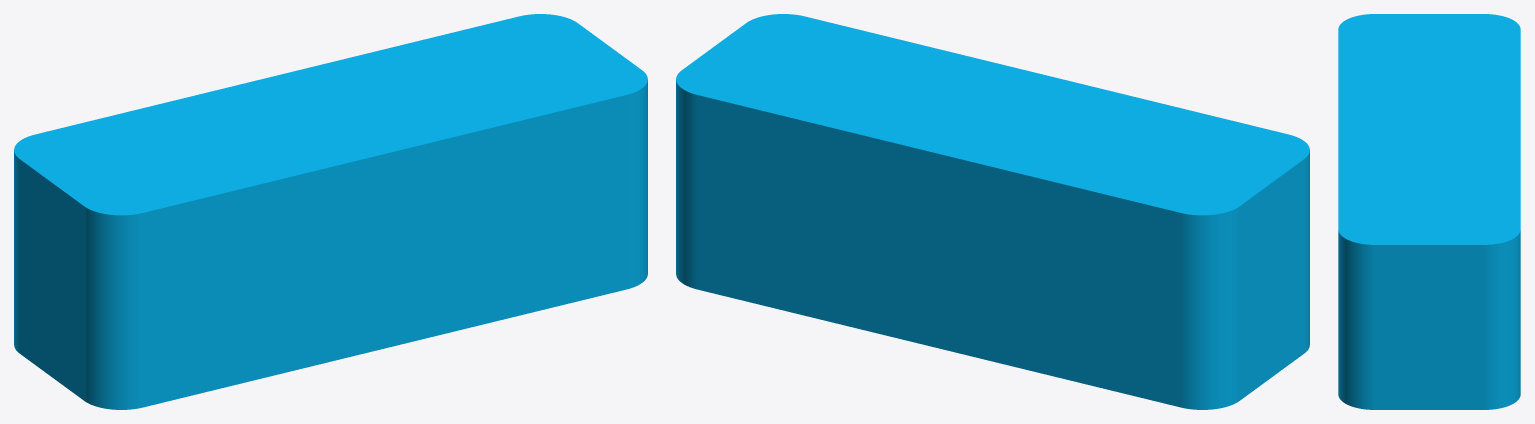
Rendered from workplane-4.gltf.
The picture shows the model from 3 angles, left to right: view 1: azimuth 30°, elevation 25°; view 2: azimuth 150°, elevation 25°; view 3: azimuth 270°, elevation 25°; orthographic projection. The views are drawn at different scales.
Visible parts, largest first — view 1: Gövde; view 2: Gövde; view 3: Gövde.
Part boxes in pixels (x1,y1,x2,y2): Gövde: [14, 14, 647, 409]; Gövde: [676, 14, 1309, 409]; Gövde: [1338, 14, 1520, 409].
Size of the model in its own units: 0.03 by 0.01 by 0.01.
